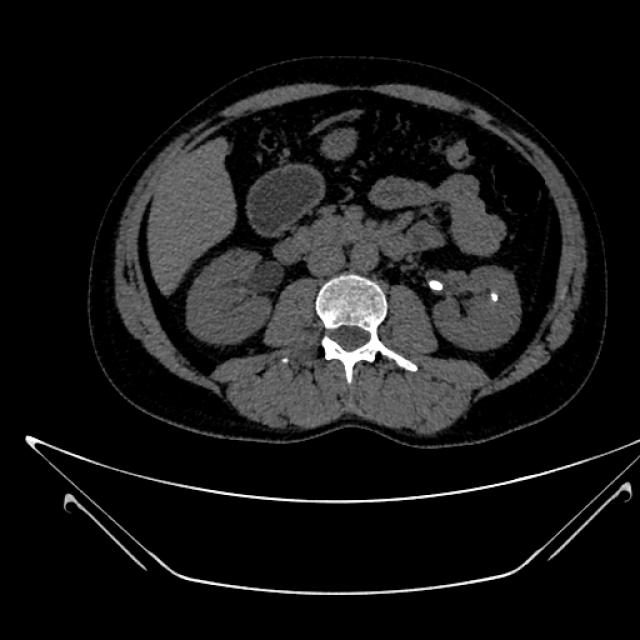kidneystone: (426, 272, 449, 295), (491, 292, 499, 302)
